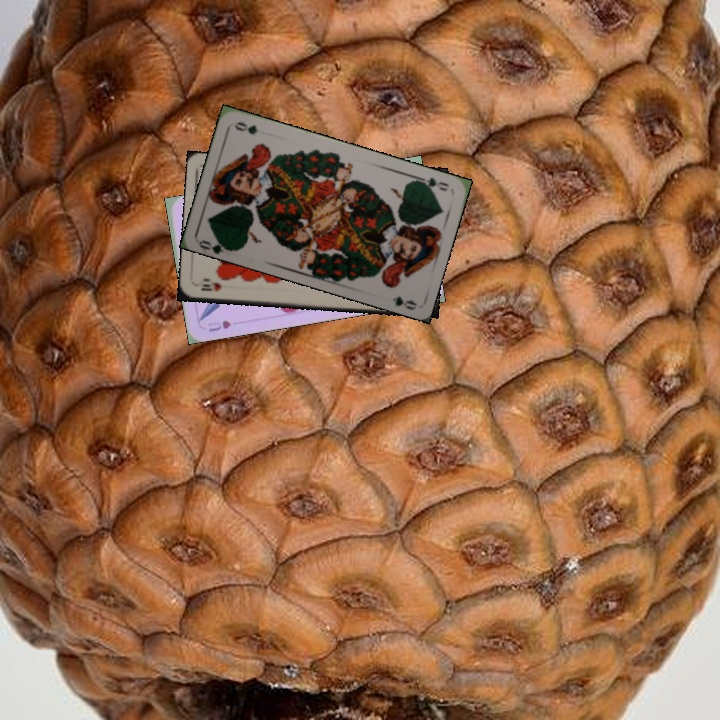GO: (196, 232, 237, 255), (413, 172, 452, 194)
H10: (197, 278, 224, 294)
HU: (204, 316, 233, 334)
